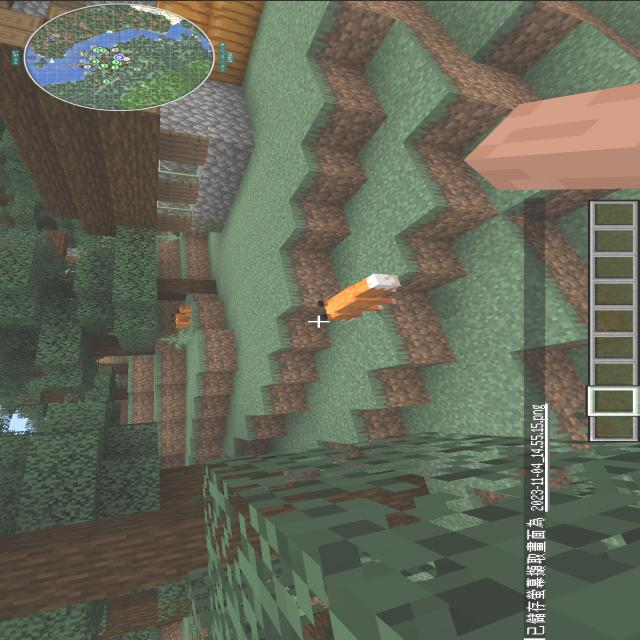Fox: (313, 266, 413, 328), (160, 294, 208, 334)
